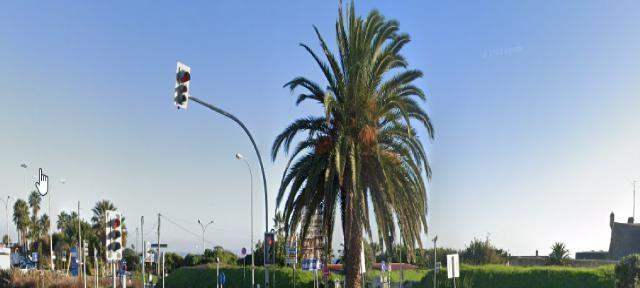red_light: (174, 62, 191, 109), (107, 210, 122, 259), (265, 233, 274, 264)
